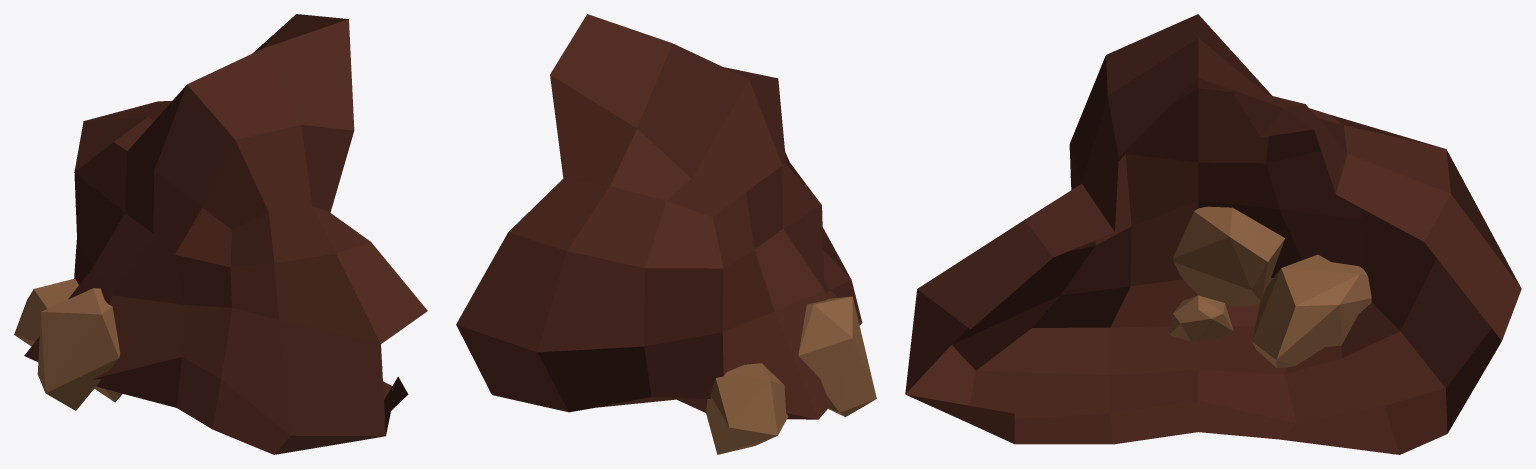
The model's file is Cave.fbx.
3 renders of one model, left to right at view 1: azimuth 30°, elevation 25°; view 2: azimuth 150°, elevation 25°; view 3: azimuth 270°, elevation 25°, orthographic. The views are drawn at different scales.
Visible parts, largest first — view 1: Cave, Rock.002, Rock.001; view 2: Cave, Rock.002, Rock.001; view 3: Cave, Rock.001, Rock.002, Rock.
Boxes of the visible parts, x1,y1,x2,y2 form: Cave: [24, 14, 427, 454]; Rock.002: [37, 288, 120, 410]; Rock.001: [14, 278, 122, 402]; Cave: [456, 14, 862, 419]; Rock.002: [798, 296, 876, 416]; Rock.001: [706, 363, 788, 454]; Cave: [905, 14, 1521, 454]; Rock.001: [1252, 254, 1371, 367]; Rock.002: [1173, 206, 1284, 306]; Rock: [1169, 295, 1233, 341].
Bounding box in the file's own units: 11720 × 13360 × 17404.
